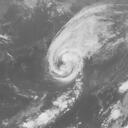cyclone: (47, 43, 84, 82)
